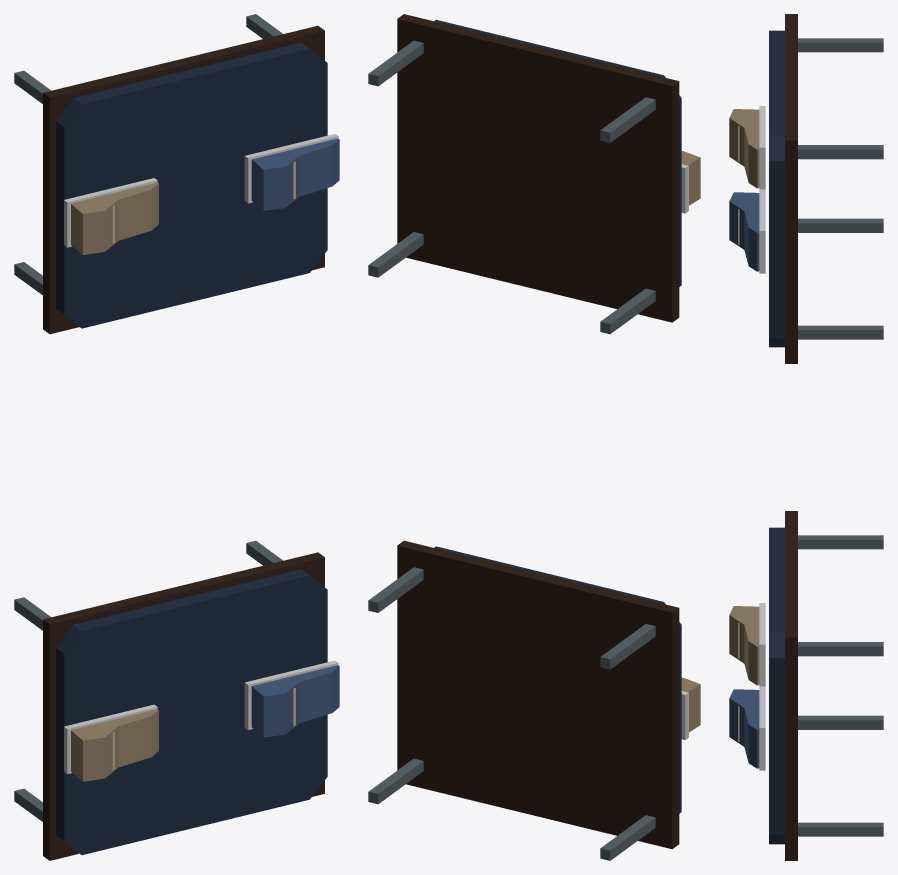
Rendered from SM_BSW_Department_ShoeBench_Long_B.obj.
3 views of the same model, side by side, from view 1: azimuth 30°, elevation 25°; view 2: azimuth 150°, elevation 25°; view 3: azimuth 270°, elevation 25° (orthographic). The views are drawn at different scales.
Visible parts, largest first — view 1: SM_BSW_Department_ShoeBench_Long_B; view 2: SM_BSW_Department_ShoeBench_Long_B; view 3: SM_BSW_Department_ShoeBench_Long_B.
Boxes of the visible parts, x1,y1,x2,y2 form: SM_BSW_Department_ShoeBench_Long_B: [14, 14, 339, 860]; SM_BSW_Department_ShoeBench_Long_B: [368, 14, 700, 860]; SM_BSW_Department_ShoeBench_Long_B: [729, 14, 883, 860].
Bounding box in the file's own units: 140 × 371 × 72.
